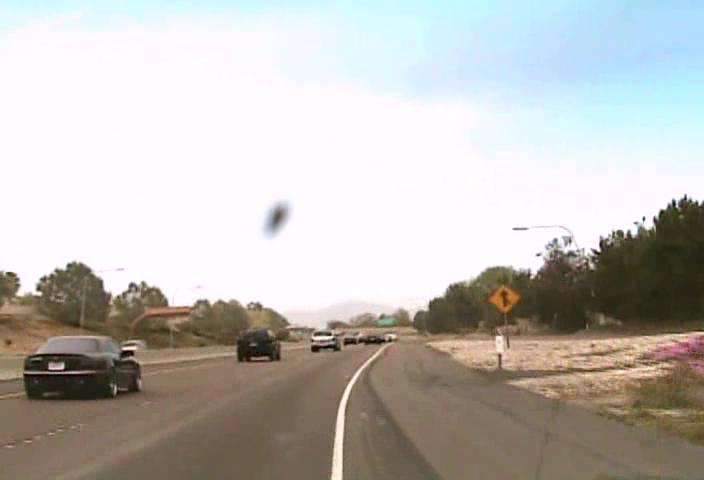merge: (486, 281, 521, 315)
